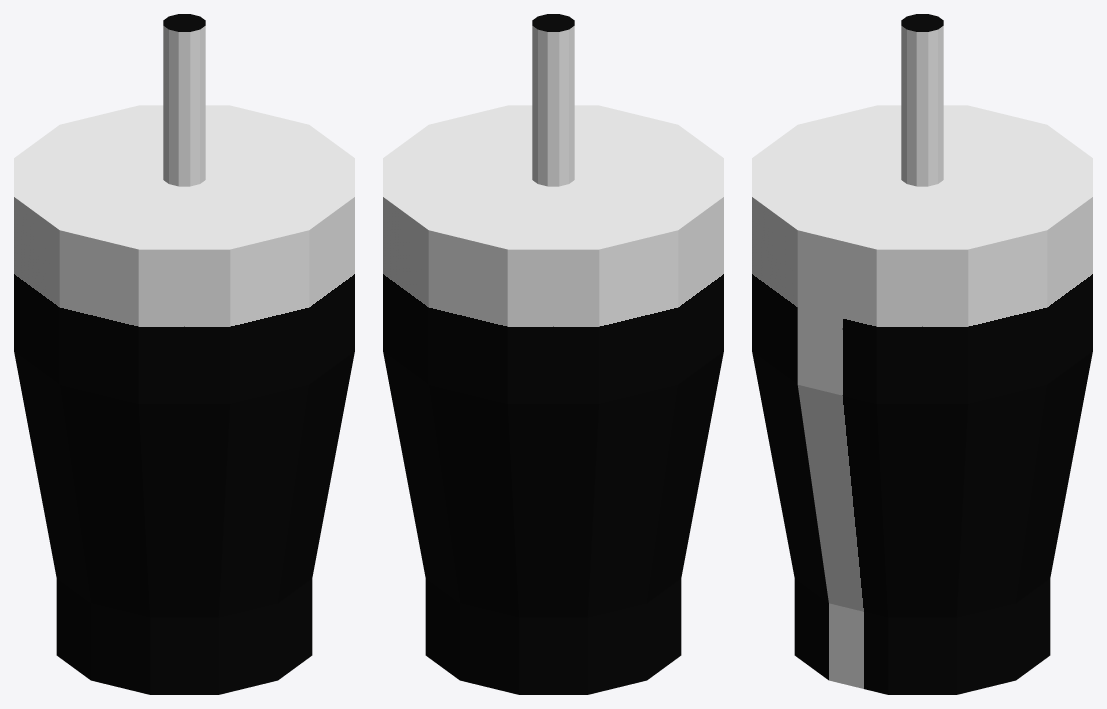
File: mug.gltf
3 renders of one model, left to right at view 1: azimuth 30°, elevation 25°; view 2: azimuth 150°, elevation 25°; view 3: azimuth 270°, elevation 25°, orthographic.
Parts seen in each view (by area): view 1: cylinder (×2); view 2: cylinder (×2); view 3: cylinder (×2).
Boxes of the visible parts, x1=… form: cylinder (×2): x1=14, y1=14, x2=354, y2=694; cylinder (×2): x1=383, y1=14, x2=723, y2=694; cylinder (×2): x1=752, y1=14, x2=1092, y2=694.
Bounding box in the file's own units: 0.25 × 0.5 × 0.25.
Materials: 2 (2 with a texture image).
